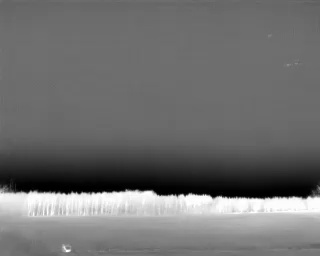BIRD: (266, 32, 273, 41)
